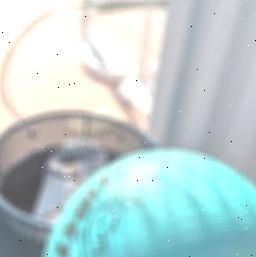algae: (42, 147, 256, 257)
